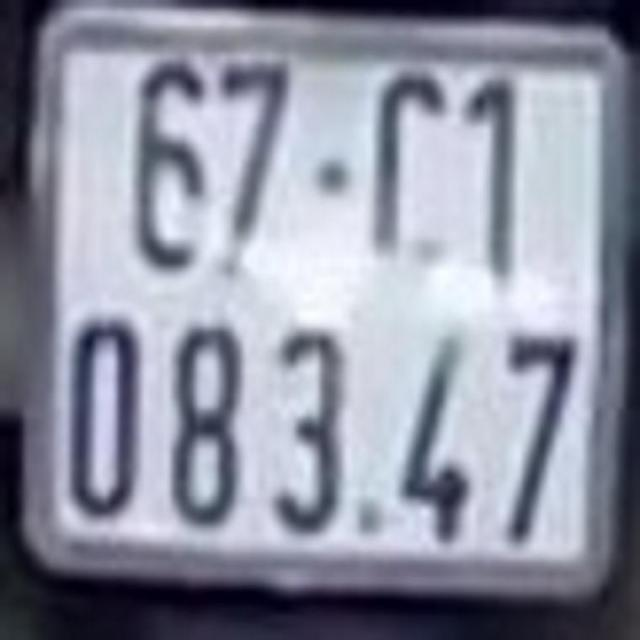0: (66, 310, 140, 516)
1: (458, 68, 525, 298)
3: (274, 318, 346, 532)
4: (398, 316, 468, 542)
6: (129, 52, 208, 271)
7: (496, 329, 578, 553), (217, 52, 290, 272)
8: (164, 320, 243, 527)
C: (371, 63, 448, 286)
